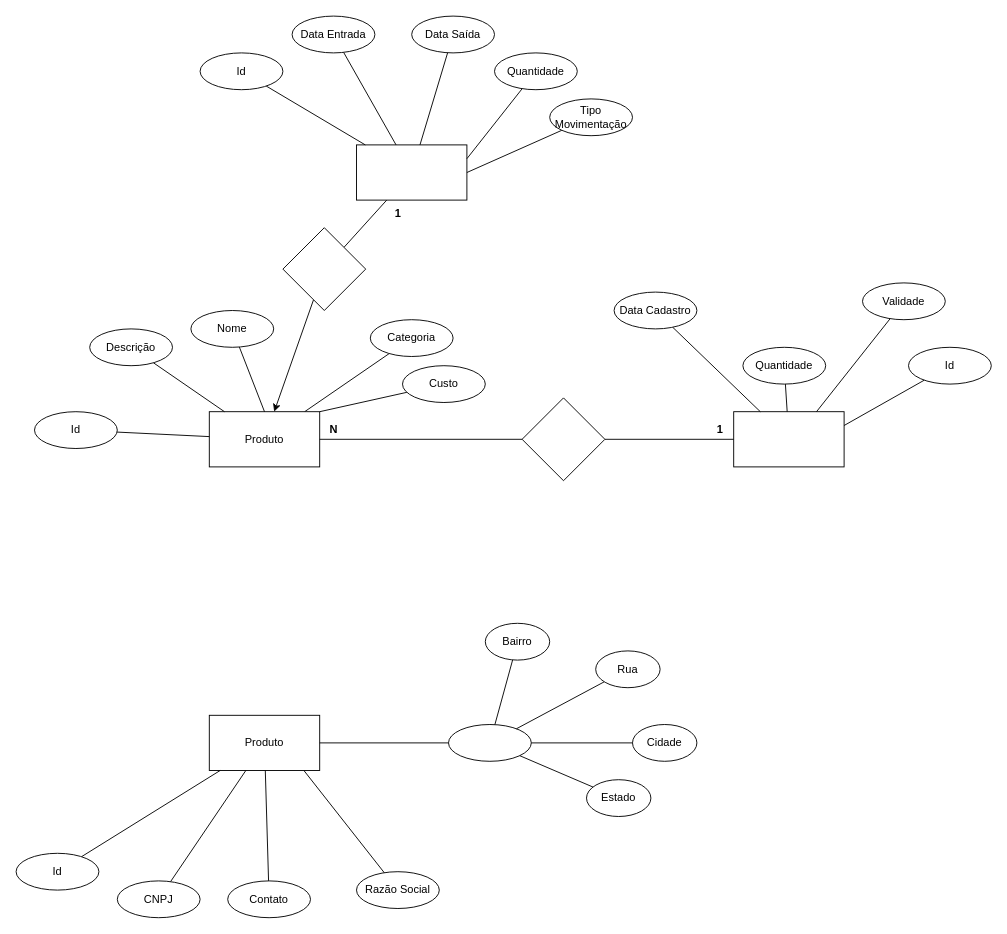
Image size: 1007x934. Some labels were removed from this diagram. Each missing label, with the box of its shape:
Endereço: (448, 724, 531, 761)
Estoque: (733, 411, 844, 467)
Está em estoque: (521, 397, 605, 481)
Movimentação de Estoque: (356, 144, 467, 200)
Possui: (282, 227, 366, 310)
